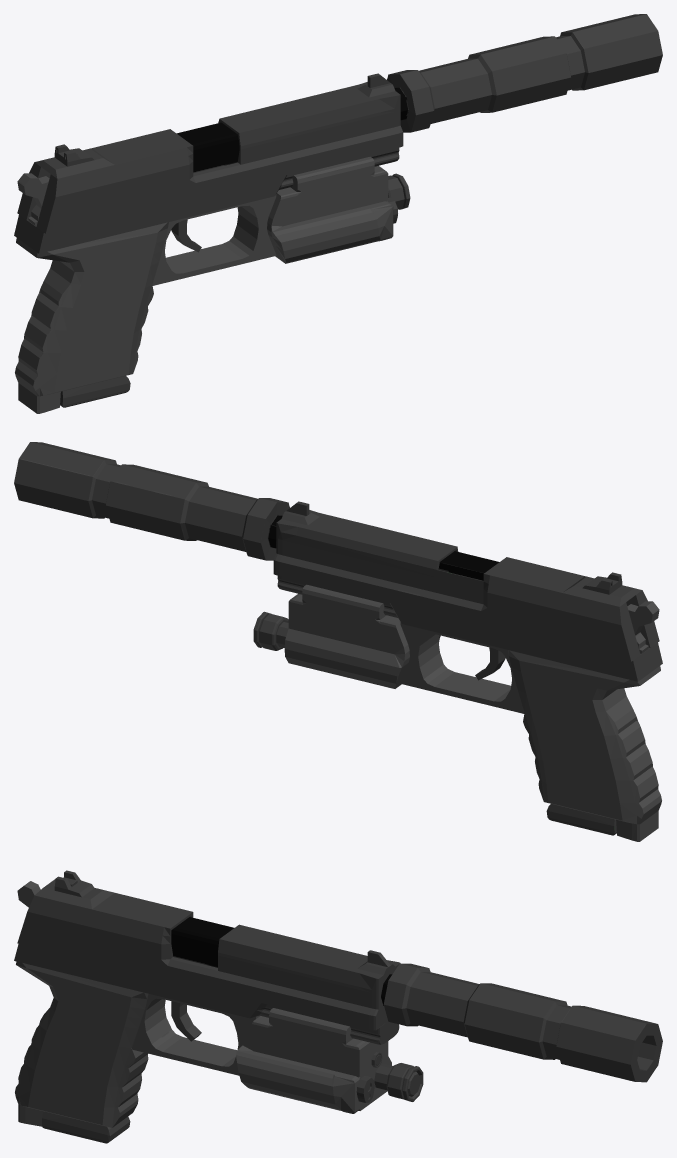
Rendered from Solcom_Export.fbx.
3 views of the same model, one above another, from view 1: azimuth 30°, elevation 25°; view 2: azimuth 150°, elevation 25°; view 3: azimuth 330°, elevation 25° (orthographic).
Parts seen in each view (by area): view 1: Cylinder.003; view 2: Cylinder.003; view 3: Cylinder.003.
Part boxes in pixels (x1,y1,x2,y2): Cylinder.003: [14, 14, 662, 413]; Cylinder.003: [14, 442, 662, 841]; Cylinder.003: [14, 870, 662, 1143].
Bounding box in the file's own units: 31.79 × 12.05 × 3.6.
